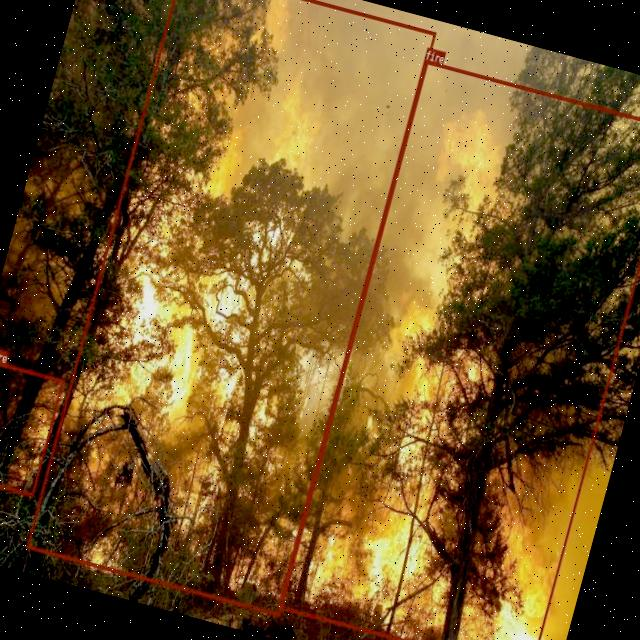fire: (25, 0, 436, 615), (276, 59, 640, 640), (0, 357, 63, 496)
